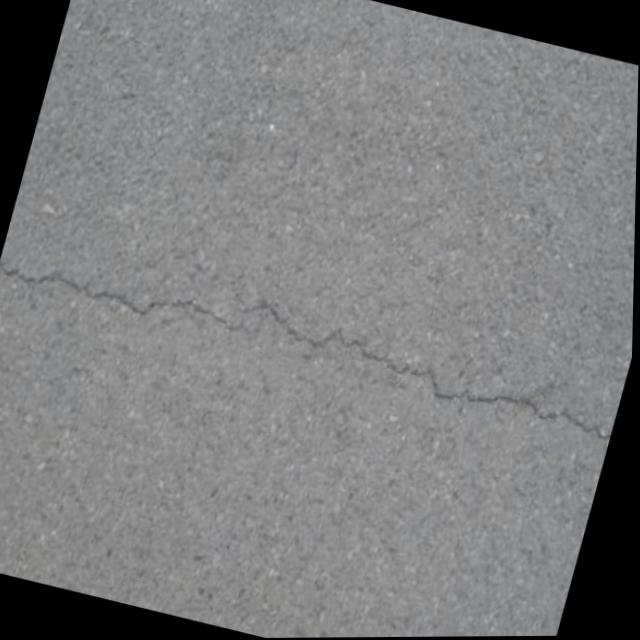Crack: (0, 219, 630, 452)
